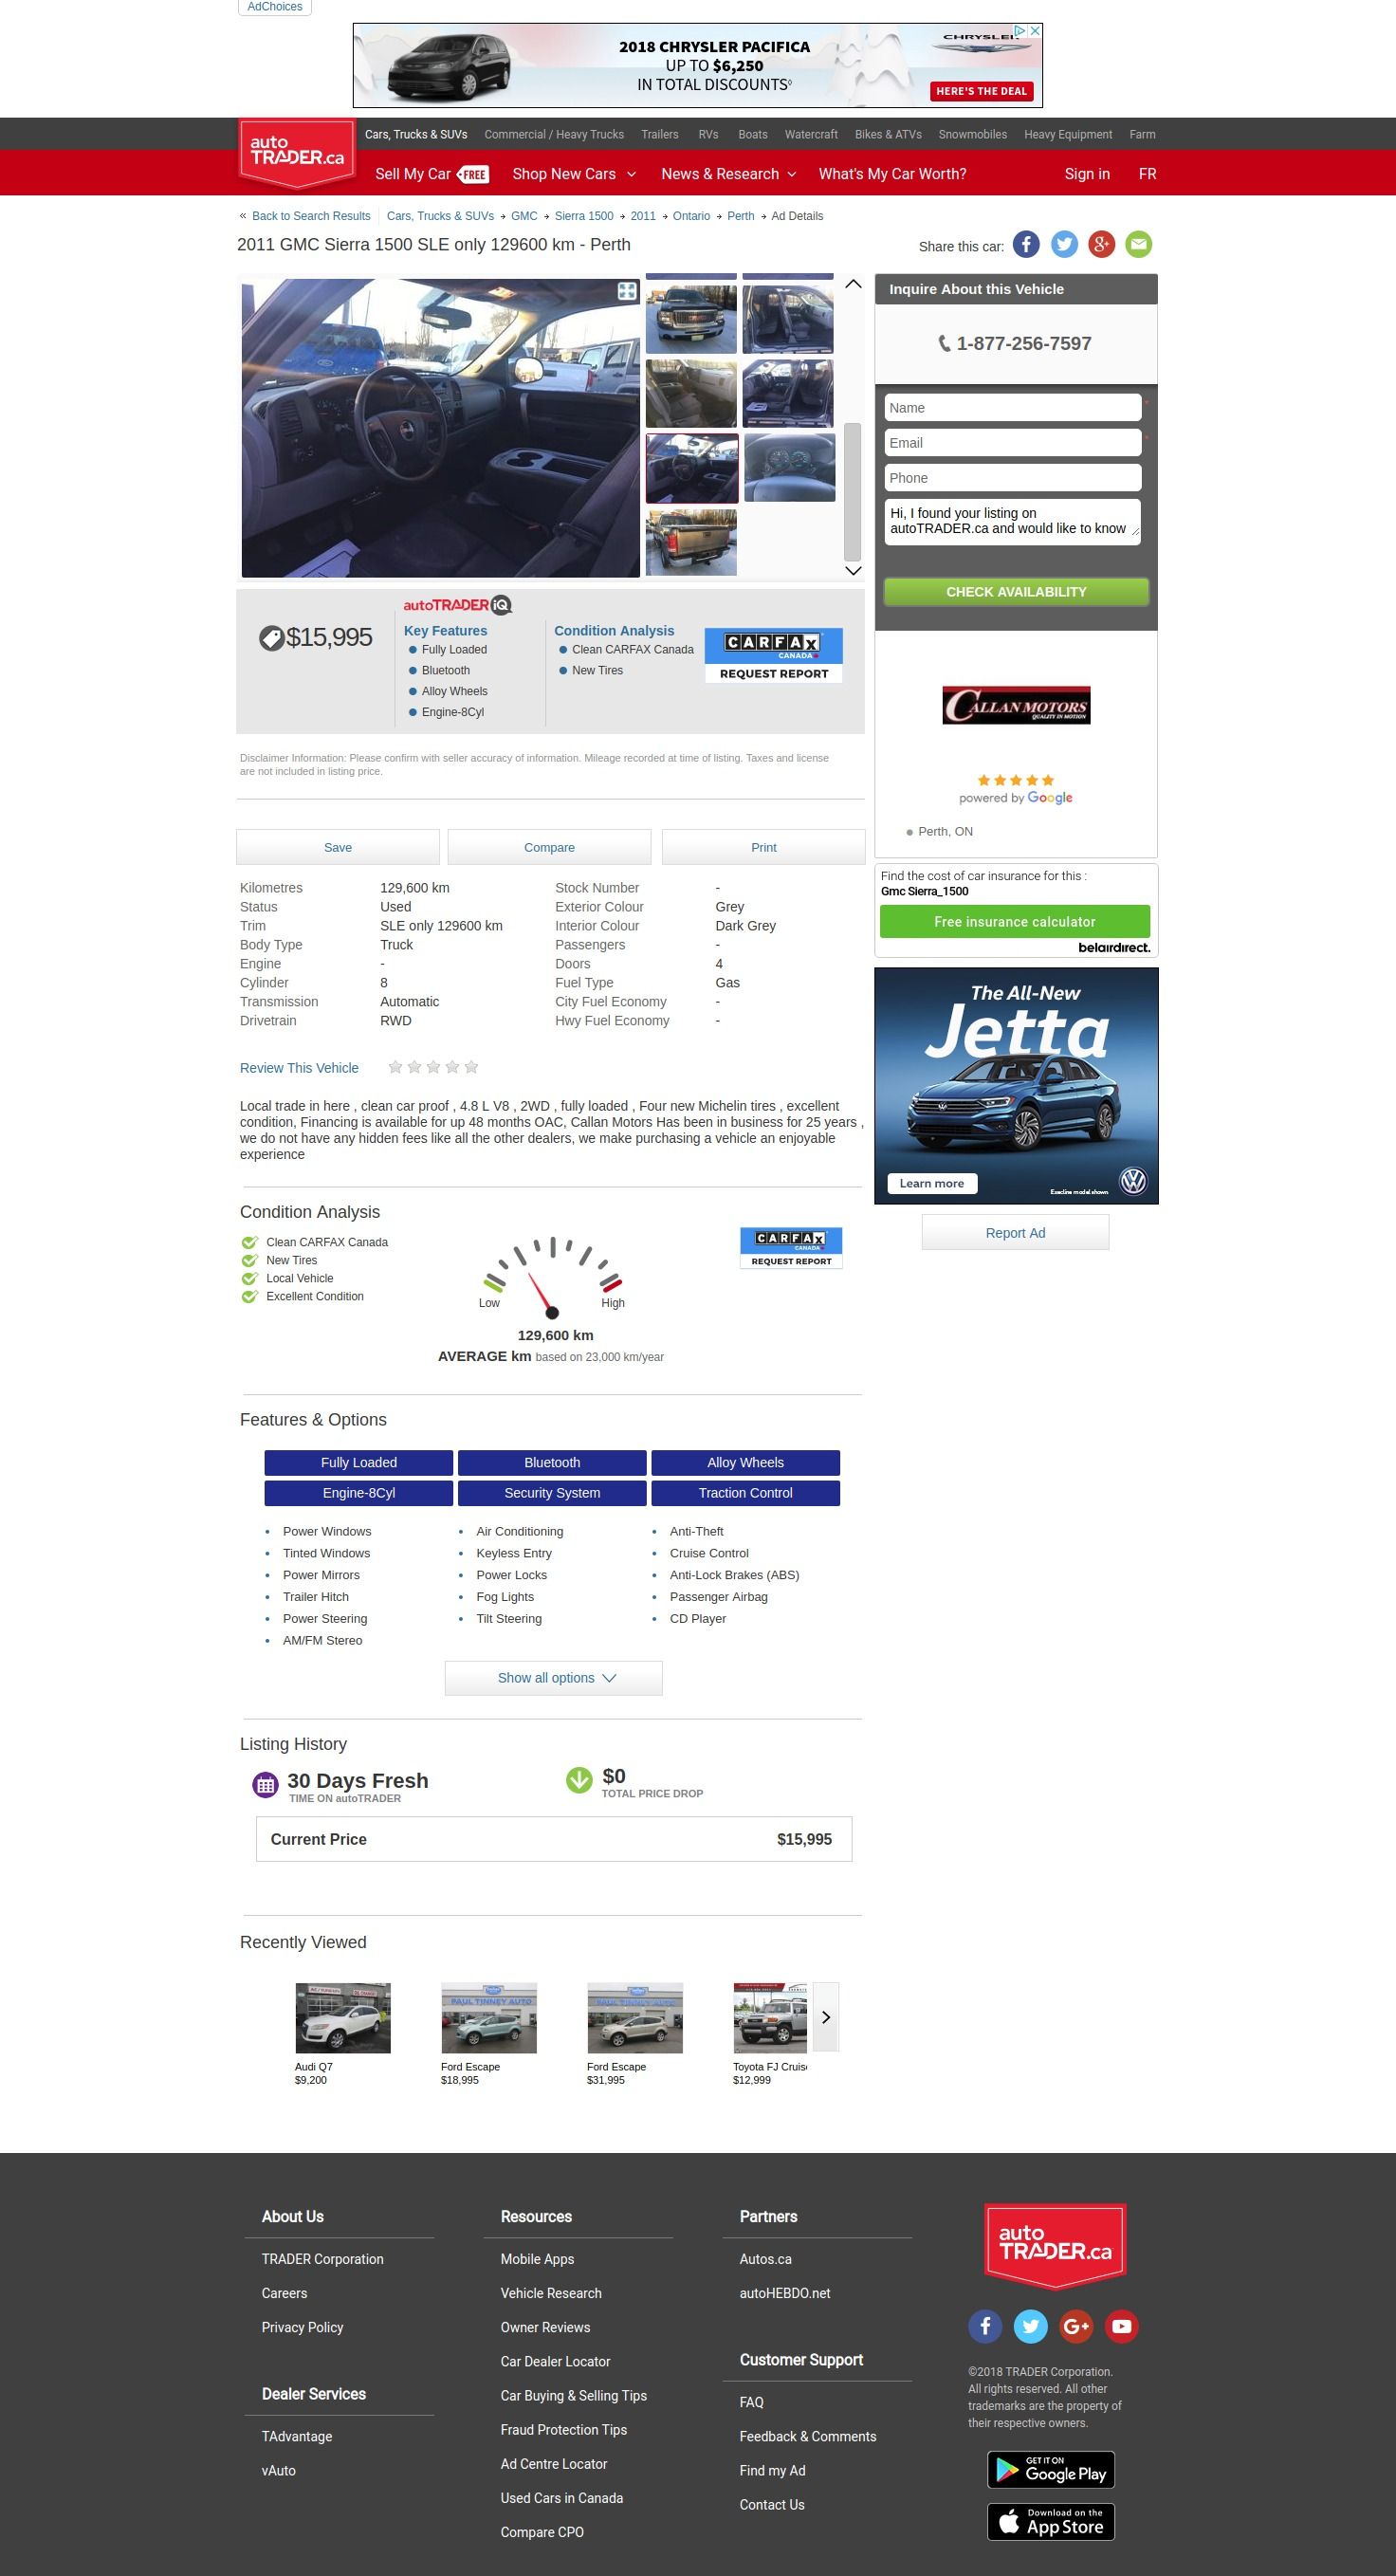car: (842, 562, 866, 583)
